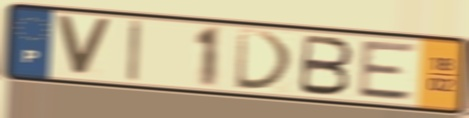1: (193, 23, 228, 91)
B: (295, 32, 357, 98)
D: (232, 27, 297, 93)
E: (355, 40, 421, 103)
I: (124, 18, 144, 84)
V: (53, 13, 115, 80)
